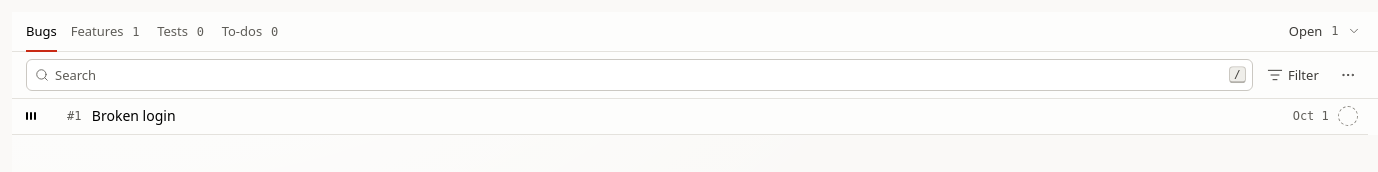
BugList › switches between Bugs and Features
Expected: the option "#3 Dark mode" is not shown
Step 1. Click the tab "Features 1" → {"x": 107, "y": 32}, box [71,12,143,51]
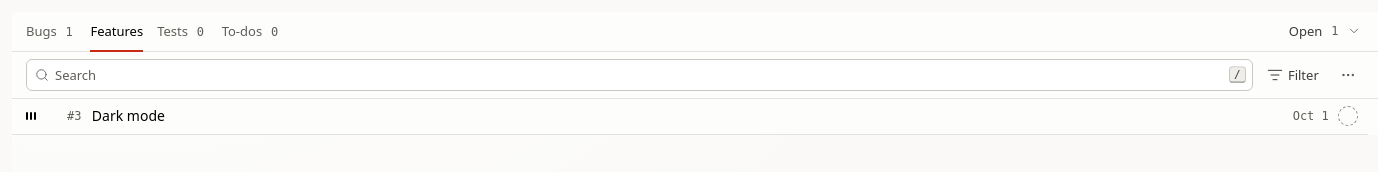
Expected: the search field named "Search features" is shown, [26,59,1253,91]
Now the option "#3 Dark mode Oct 1" is shown, box [12,99,1368,135]
Now the option "#1 Broken login" is gone
